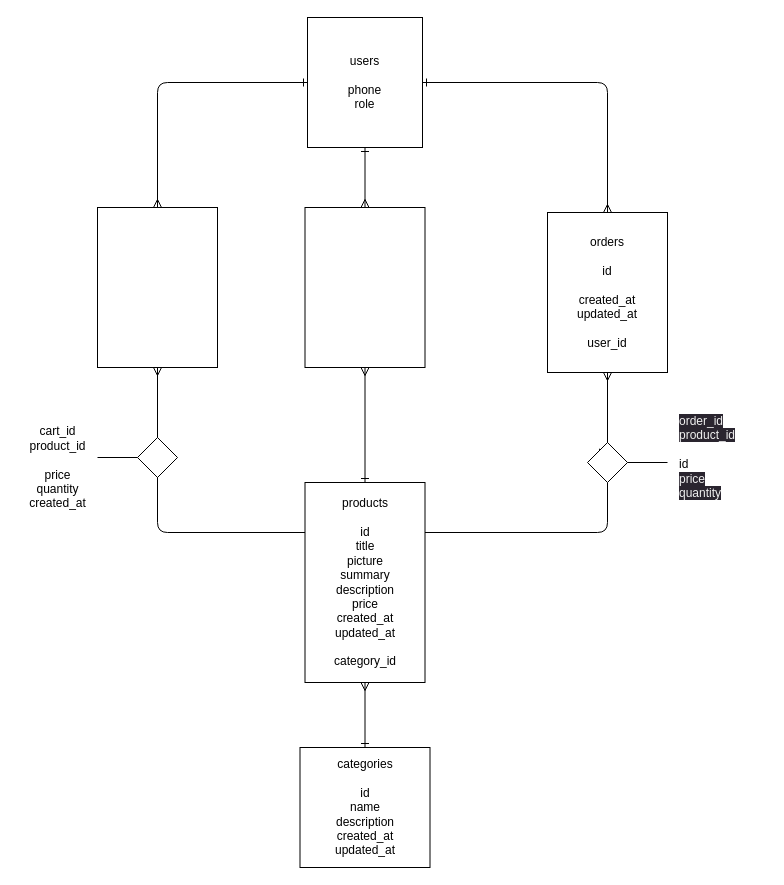
This 784x885 diagram has some shape labels left out. The shapes that lost their labels are listed below. From the top down, each one's centre as x and y in pixels, then its label:
(157,287): carts id status created_at updated_at user_id
(364,287): reviews id rating comment created_at user_id product_id
